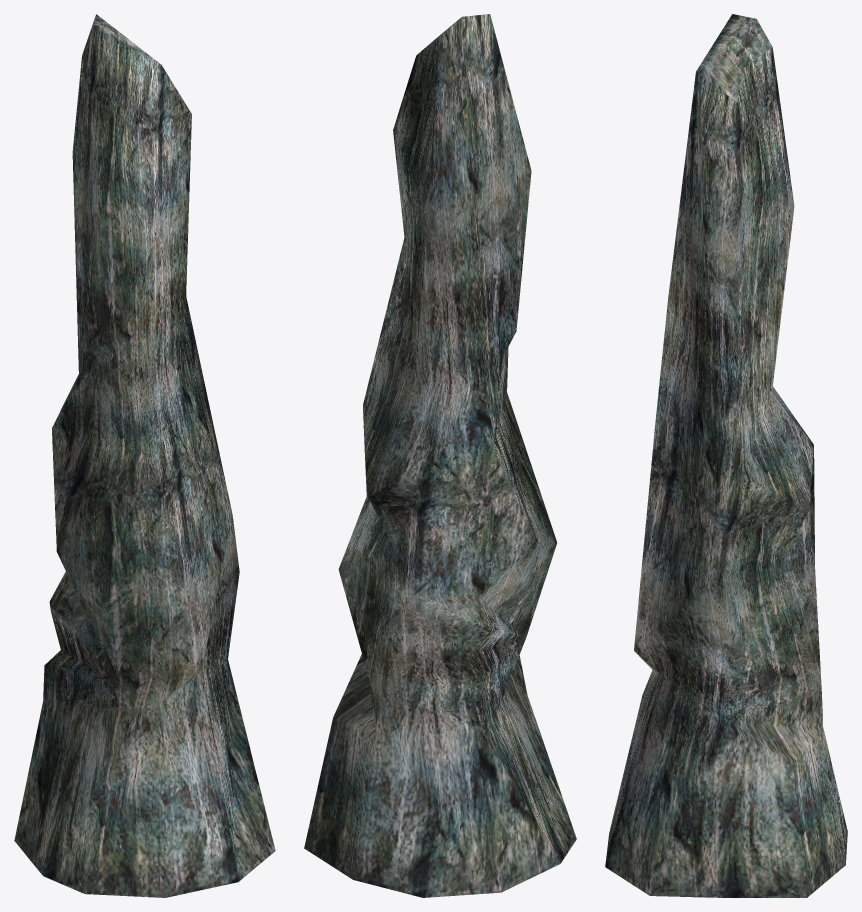
Rendered from rock_dath_desertspire_a1_l3.fbx.
3 views of the same model, side by side, from view 1: azimuth 30°, elevation 25°; view 2: azimuth 150°, elevation 25°; view 3: azimuth 270°, elevation 25° (orthographic). The views are drawn at different scales.
Visible parts, largest first — view 1: mesh_node; view 2: mesh_node; view 3: mesh_node.
Part boxes in pixels (<box>): mesh_node: <box>14,14,275,897</box>; mesh_node: <box>304,14,576,897</box>; mesh_node: <box>605,14,847,897</box>.
Bounding box in the file's own units: 17.25 × 65.89 × 17.74.
